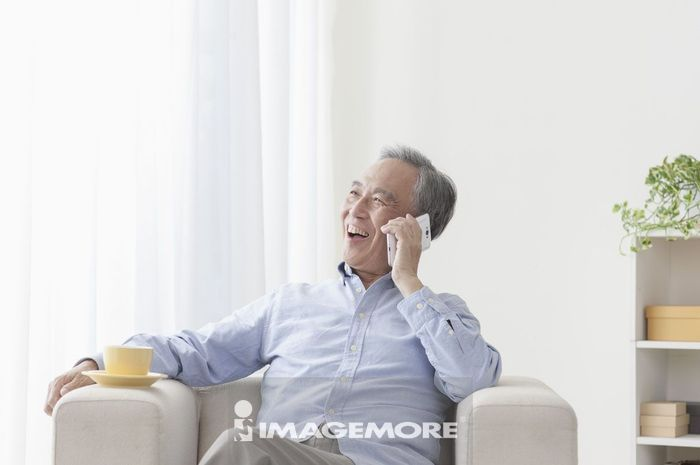phone: (387, 215, 433, 267)
talk: (338, 177, 433, 289)
